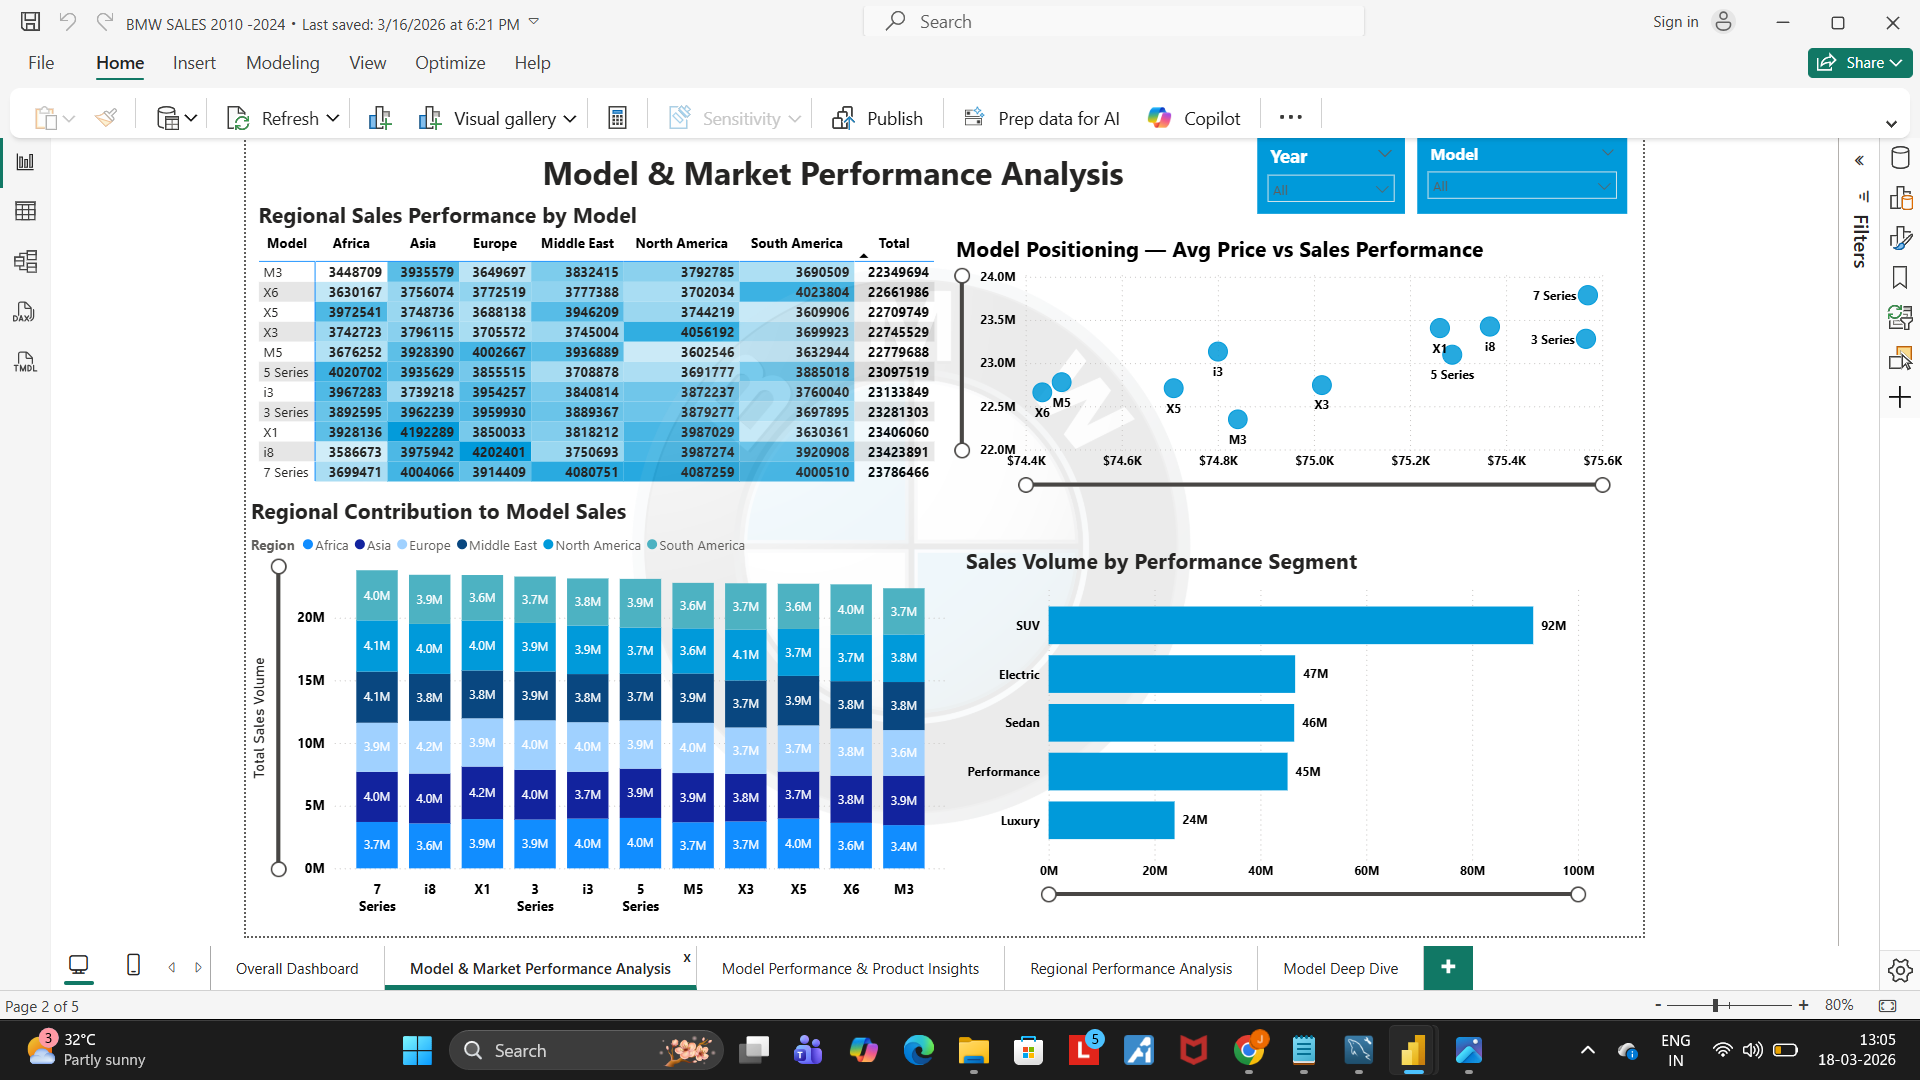

Layout of this report page (visuals, bound fields, positions):
{"tool":"powerbi","page":{"name":"Model & Market Performance Analysis","canvas":[1400,800],"ordinal":1},"visuals":[{"type":"pivotTable","title":"Regional Sales Performance by Model","fields":{"Columns":["BMW_Data.Region"],"Rows":["Model_Table.Model"],"Values":["Measure.Total Sales Volume"]},"box":[2.8,51.1,700.8,306.8],"z":0},{"type":"image","box":[319.3,128.5,693.9,559.8],"z":1000},{"type":"columnChart","title":"Regional Contribution to Model Sales","fields":{"Category":["Model_Table.Model"],"Series":["BMW_Data.Region"],"Y":["Measure.Total Sales Volume"]},"box":[0,358,706.3,428.5],"z":2000},{"type":"scatterChart","title":"Model Positioning — Avg Price vs Sales Performance ","fields":{"Category":["Model_Table.Model"],"Size":["Measure.Total Revenue"],"X":["Measure.Average Price"],"Y":["Measure.Total Sales Volume"]},"box":[706.2,96.8,677.6,261.8],"z":3000},{"type":"barChart","title":"Sales Volume by Performance Segment","fields":{"Category":["Model_Table.Model Category"],"Y":["Measure.Total Sales Volume"]},"box":[715.7,407.8,658.6,360.2],"z":4000},{"type":"slicer","fields":{"Values":["Model_Table.Model"]},"box":[1173.5,0,210.1,76],"z":5000},{"type":"slicer","fields":{"Values":["BMW_Data.Year"]},"box":[1013.1,0,147.9,76],"z":6000},{"type":"textbox","box":[208.7,6.9,749.1,53.9],"z":7000}]}

Visuals, with their boxes on the page's 1400x800 design canvas (x1, y1, x2, y2). These are canvas units, not pixel positions in the 1920x1080 screenshot, which may show the page scaled, cropped or inside an application window:
"Regional Sales Performance by Model" pivotTable: bbox(3, 51, 704, 358)
image: bbox(319, 128, 1013, 688)
"Regional Contribution to Model Sales" columnChart: bbox(0, 358, 706, 786)
"Model Positioning — Avg Price vs Sales Performance " scatterChart: bbox(706, 97, 1384, 359)
"Sales Volume by Performance Segment" barChart: bbox(716, 408, 1374, 768)
slicer - Model_Table.Model: bbox(1174, 0, 1384, 76)
slicer - BMW_Data.Year: bbox(1013, 0, 1161, 76)
textbox: bbox(209, 7, 958, 61)
